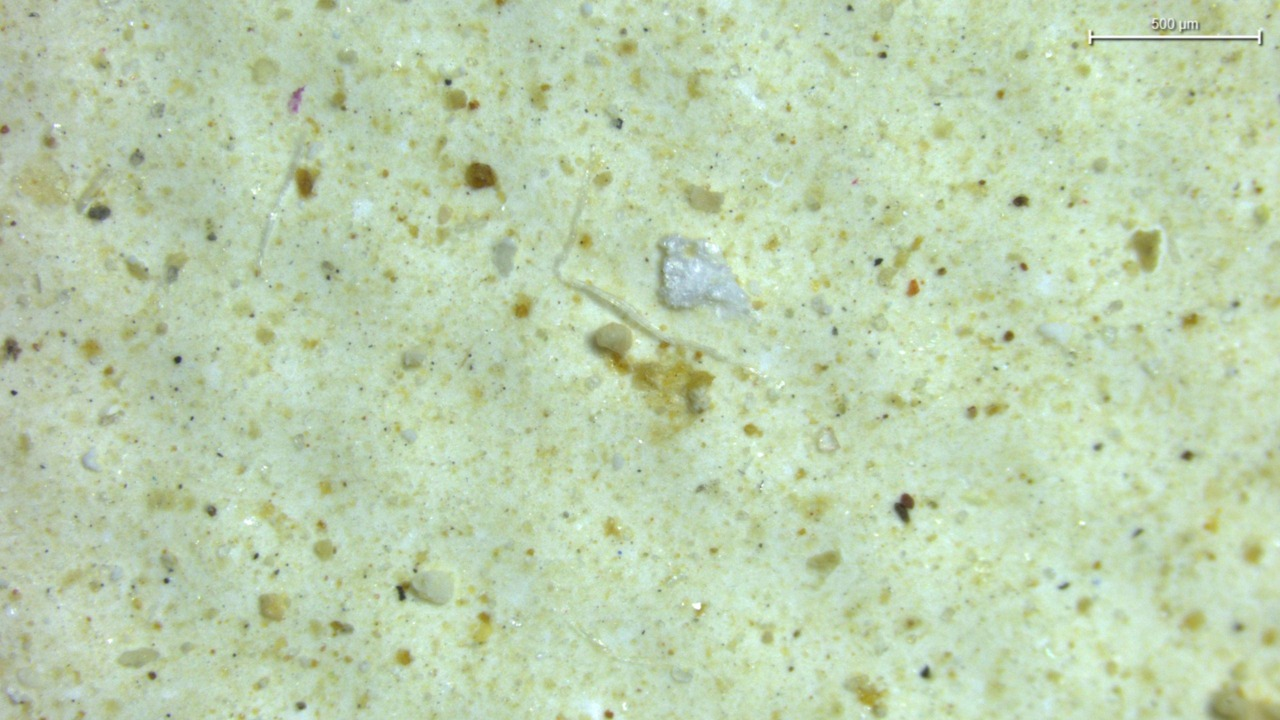microplastic_fragment: (658, 235, 751, 319), (410, 569, 455, 605), (591, 322, 634, 355)
